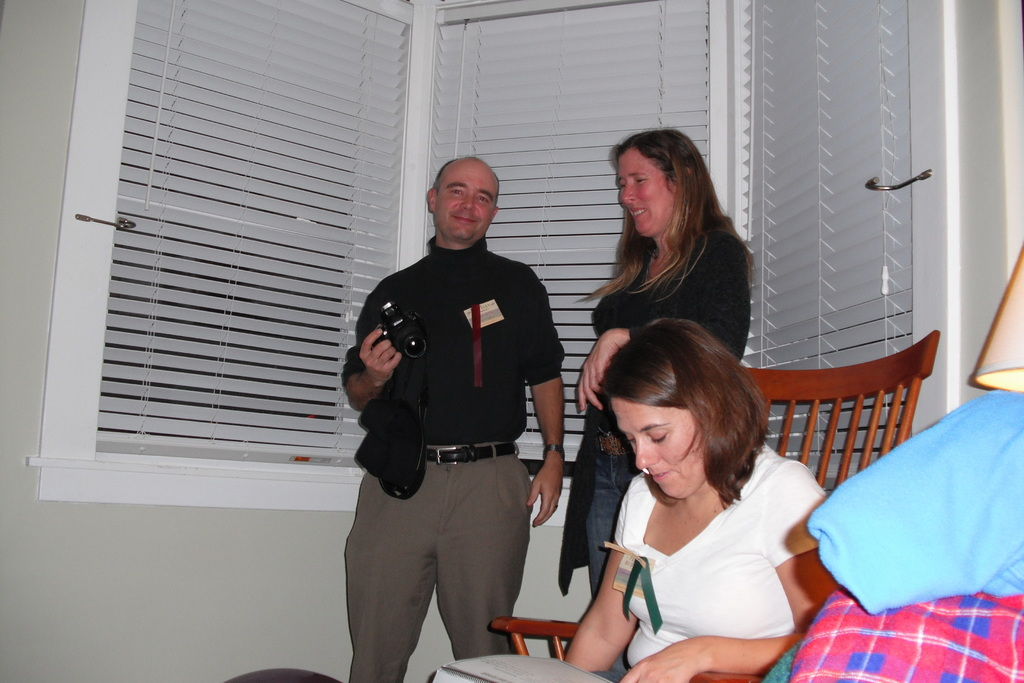Human_hand: (348, 327, 412, 418), (575, 325, 620, 413), (616, 639, 701, 682), (527, 461, 564, 529)
